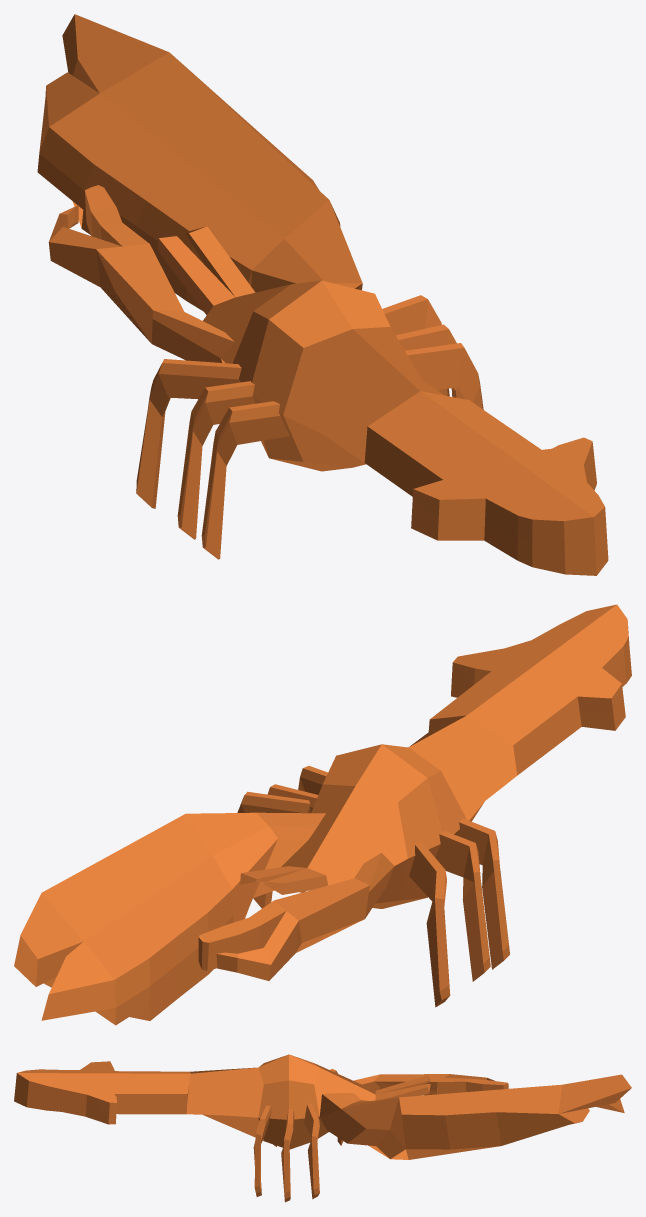
Rendered from pistol_shrimp.glb.
The picture shows the model from 3 angles, top to bottom: view 1: azimuth 30°, elevation 25°; view 2: azimuth 150°, elevation 25°; view 3: azimuth 270°, elevation 25°; orthographic projection. The views are drawn at different scales.
Visible parts, largest first — view 1: Cube; view 2: Cube; view 3: Cube.
Boxes of the visible parts, x1=… form: Cube: x1=37, y1=14, x2=608, y2=575; Cube: x1=14, y1=604, x2=631, y2=1025; Cube: x1=14, y1=1054, x2=631, y2=1202.
Bounding box in the file's own units: 1.42 × 1.15 × 5.28.
